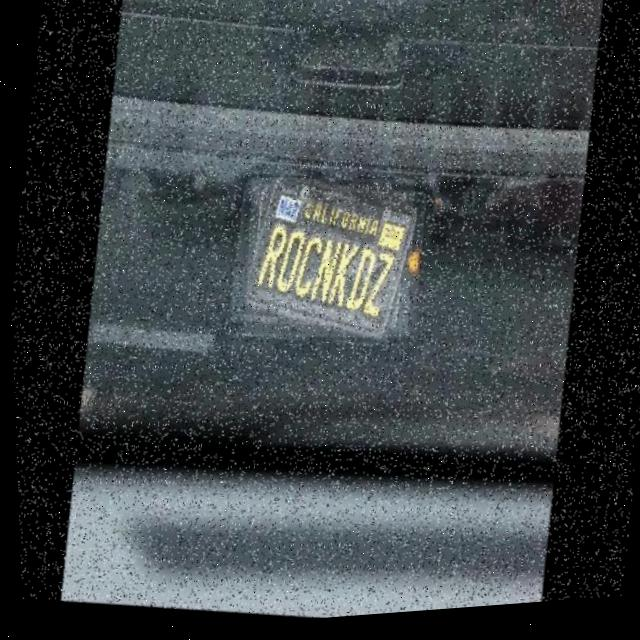LicensePlate: (237, 172, 418, 353)
